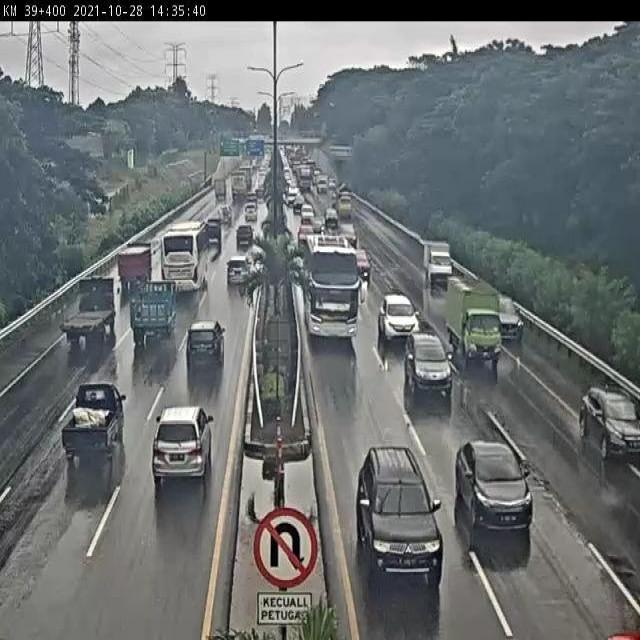big bus: (303, 234, 356, 330), (162, 224, 211, 293)
big truck: (229, 173, 247, 203)
car: (357, 448, 443, 572), (456, 439, 534, 528), (153, 406, 214, 491), (62, 383, 125, 464), (577, 389, 640, 456), (404, 332, 451, 391), (187, 321, 225, 371), (378, 296, 417, 339), (496, 298, 523, 338), (424, 242, 448, 278), (227, 256, 252, 287), (235, 225, 254, 248), (352, 251, 369, 273), (214, 206, 230, 226), (297, 223, 312, 240), (243, 203, 257, 221), (323, 205, 336, 223), (299, 203, 313, 217)
small truck: (446, 279, 501, 361), (59, 276, 121, 345), (131, 281, 176, 347), (117, 243, 155, 289), (336, 190, 353, 218), (203, 221, 220, 248)
